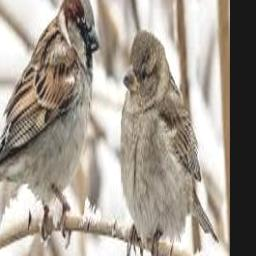Sparrow: (0, 0, 100, 248), (120, 29, 219, 256)
